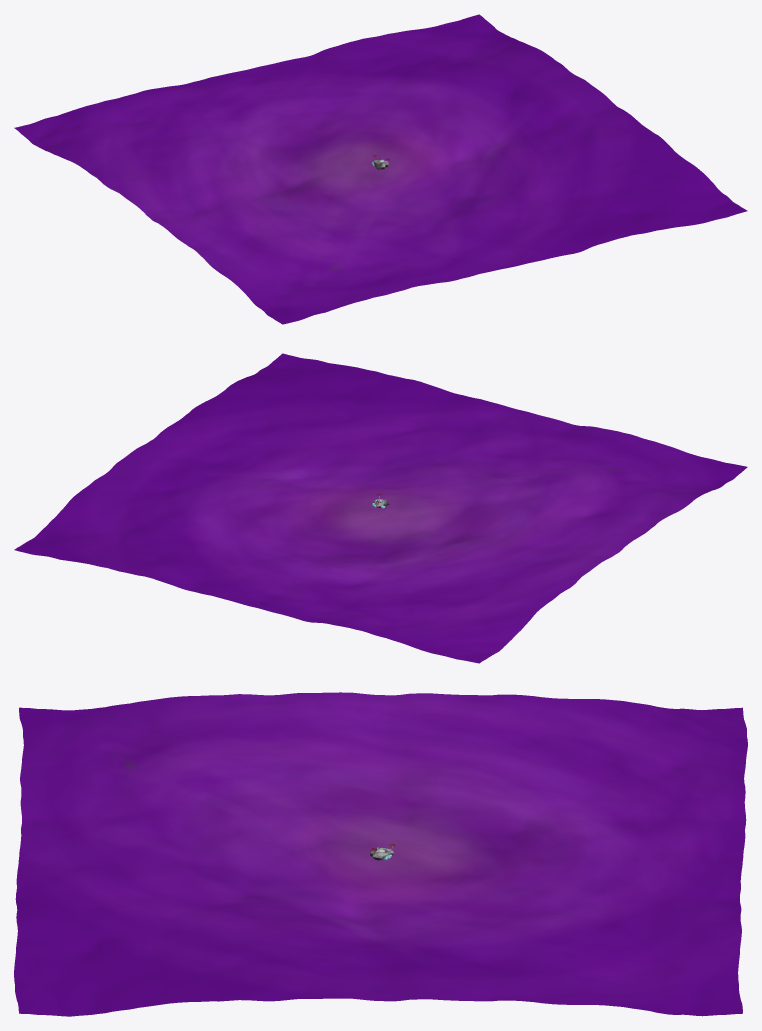
Rendered from purpure island.fbx.
3 views of the same model, one above another, from view 1: azimuth 30°, elevation 25°; view 2: azimuth 150°, elevation 25°; view 3: azimuth 270°, elevation 25° (orthographic). The views are drawn at different scales.
Visible parts, largest first — view 1: Prostokąt; view 2: Prostokąt; view 3: Prostokąt.
Part boxes in pixels (x1=…): Prostokąt: x1=14, y1=14, x2=747, y2=324; Prostokąt: x1=14, y1=353, x2=747, y2=663; Prostokąt: x1=14, y1=692, x2=747, y2=1016.
Size of the model in its own units: 84255 by 3029 by 84609.
1 material, 1 textured.
